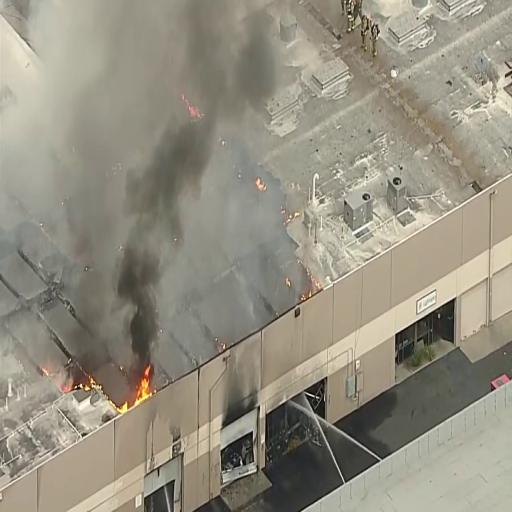smoke: (122, 97, 202, 364)
